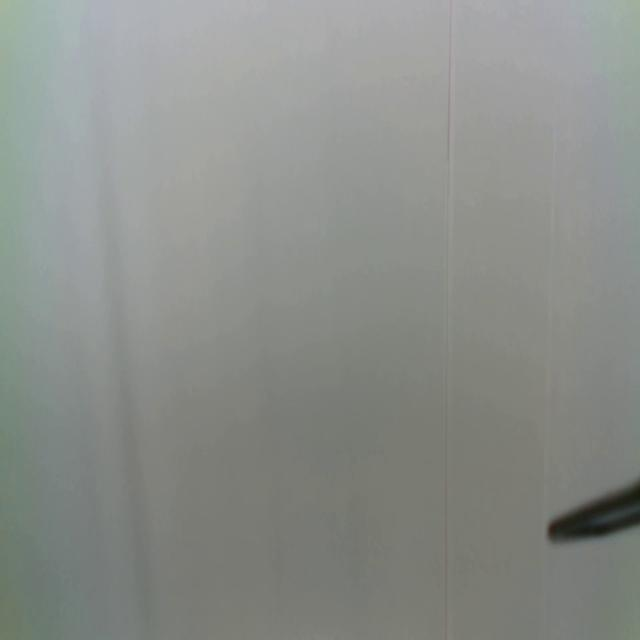crease: (442, 1, 454, 640), (542, 110, 559, 516)
